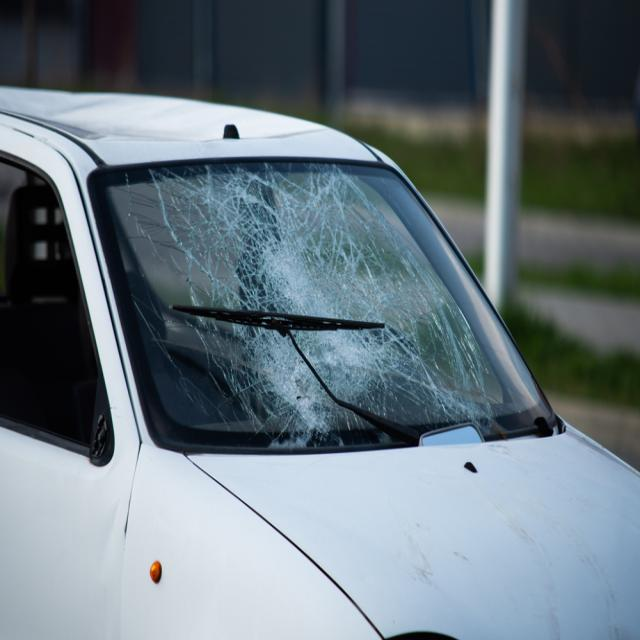Windshield: (172, 171, 450, 454)
